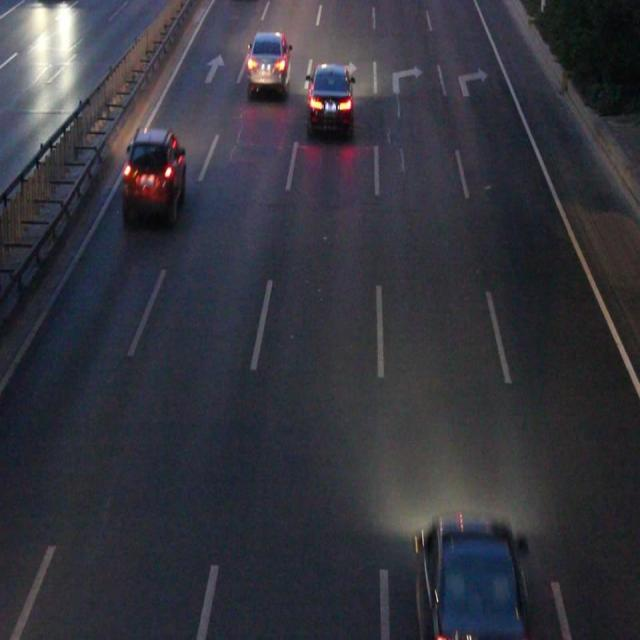car: (416, 517, 529, 633), (125, 132, 185, 220), (307, 65, 352, 133), (248, 33, 290, 90)
